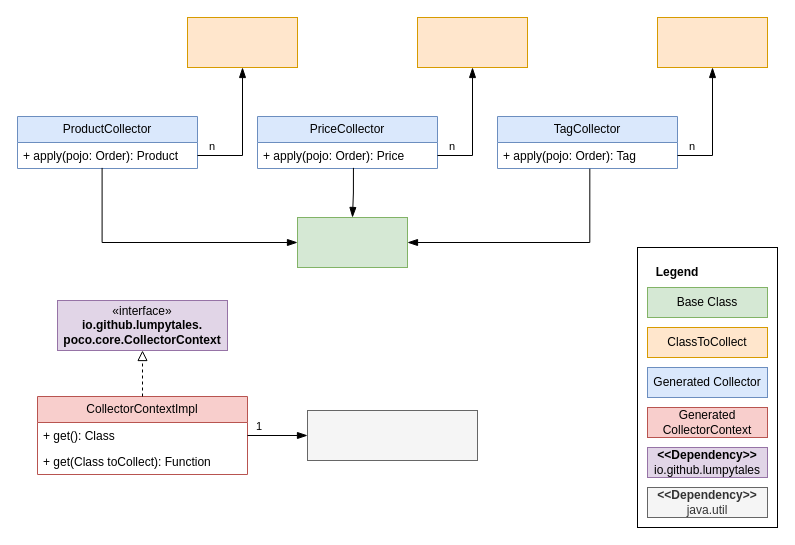
Some shapes in this 795 by 545 pixel diagram are drawn without their labels. Each missing label, with the centre of its shape:
"Order" goes at (352,242).
"Price" goes at (472,42).
"Product" goes at (242,42).
"Tag" goes at (712,42).
"«interface» java.util.function.Function" goes at (392,435).
